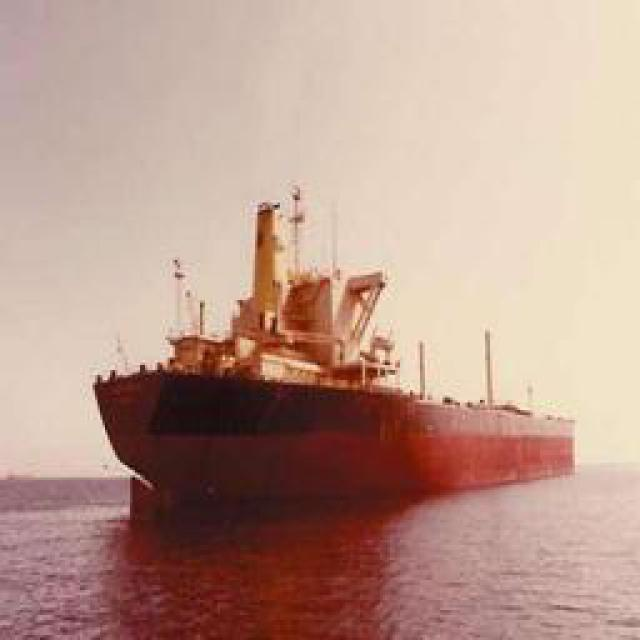Ship: (106, 359, 571, 512)
